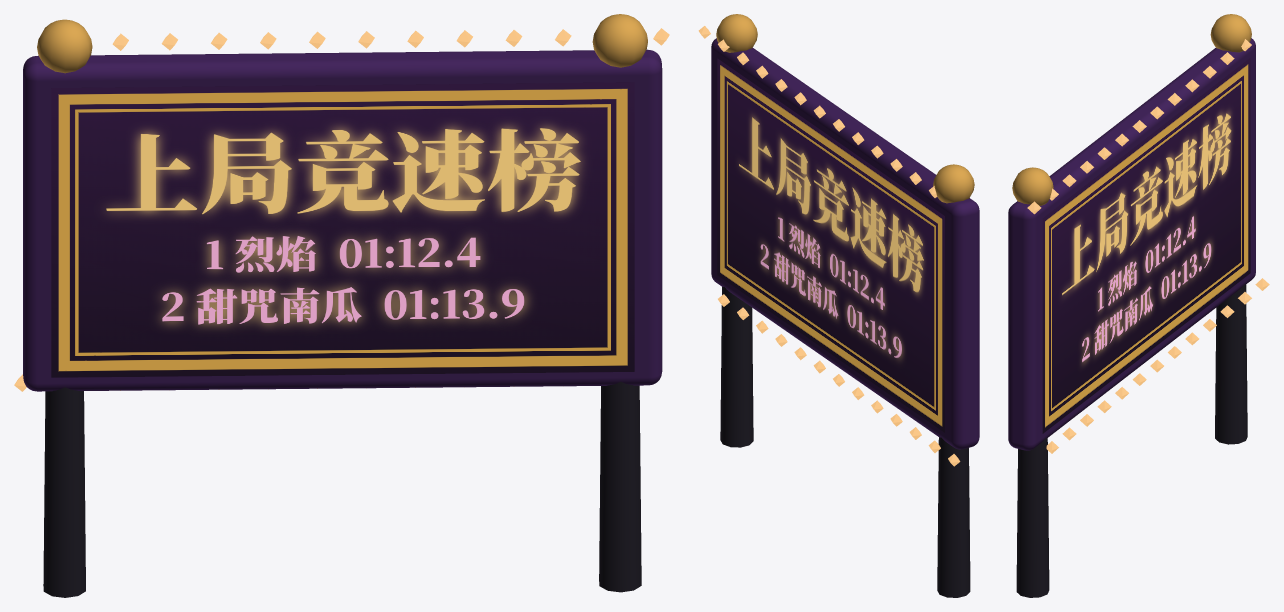
File: B02_RaceBoard.glb
The picture shows the model from 3 angles, left to right: view 1: azimuth 30°, elevation 25°; view 2: azimuth 150°, elevation 25°; view 3: azimuth 270°, elevation 25°; orthographic projection. The views are drawn at different scales.
Visible parts, largest first — view 1: B02_RaceBoard; view 2: B02_RaceBoard; view 3: B02_RaceBoard.
Part boxes in pixels (left/top/right/bottom): B02_RaceBoard: left=14, top=14, right=669, bottom=597; B02_RaceBoard: left=698, top=14, right=979, bottom=597; B02_RaceBoard: left=1008, top=14, right=1269, bottom=597.
Size of the model in its own units: 0.9398 by 1 by 0.562.
Materials: 6 (2 with a texture image).
